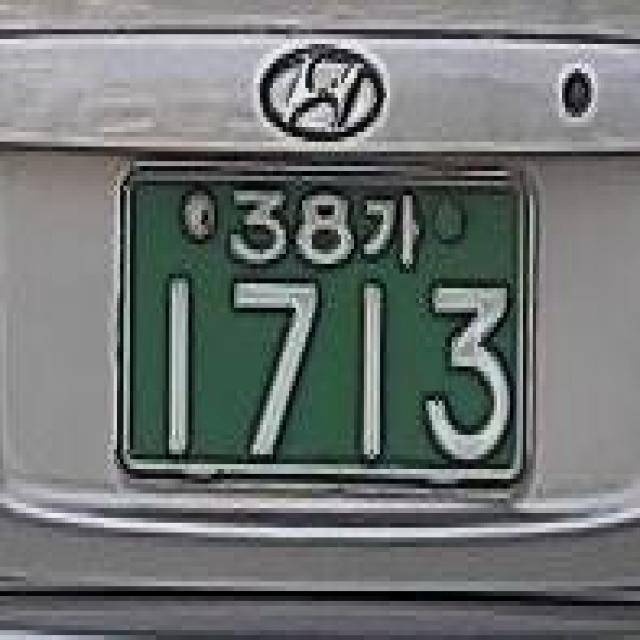illegal_plate: (91, 126, 553, 528)
